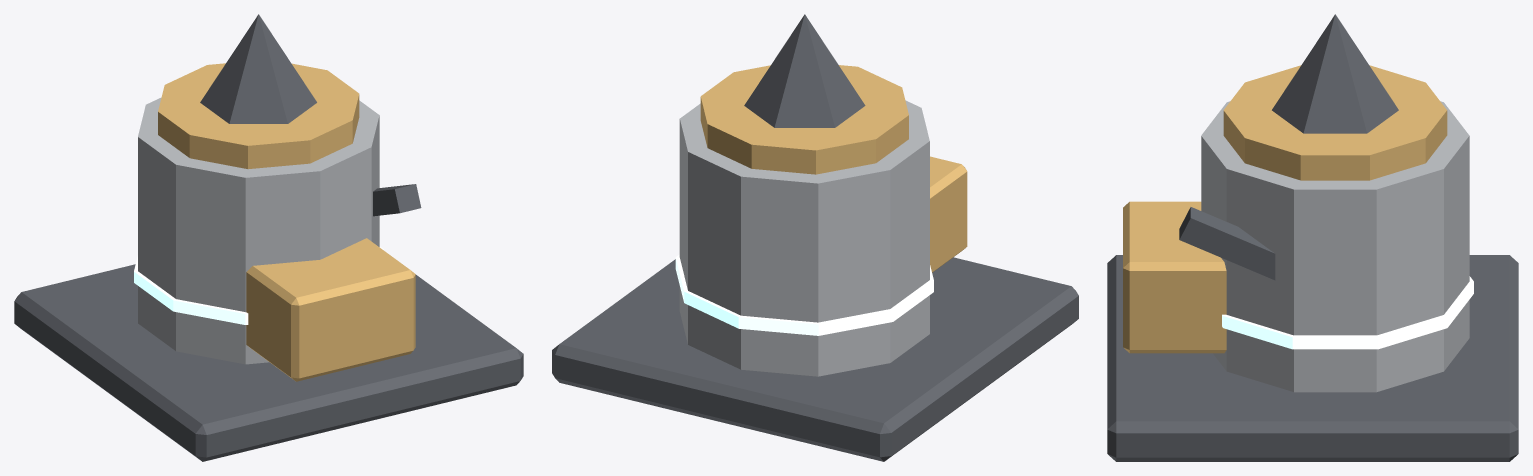
Rendered from ore_extractor-oFv8Jnfp.glb.
The picture shows the model from 3 angles, left to right: view 1: azimuth 30°, elevation 25°; view 2: azimuth 150°, elevation 25°; view 3: azimuth 270°, elevation 25°; orthographic projection. The views are drawn at different scales.
Parts seen in each view (by area): view 1: slab; view 2: slab; view 3: slab.
Boxes of the visible parts, x1=… form: slab: x1=14, y1=14, x2=523, y2=461; slab: x1=552, y1=14, x2=1078, y2=461; slab: x1=1107, y1=14, x2=1518, y2=461.
Size of the model in its own units: 1.84 by 1.8 by 1.84.
